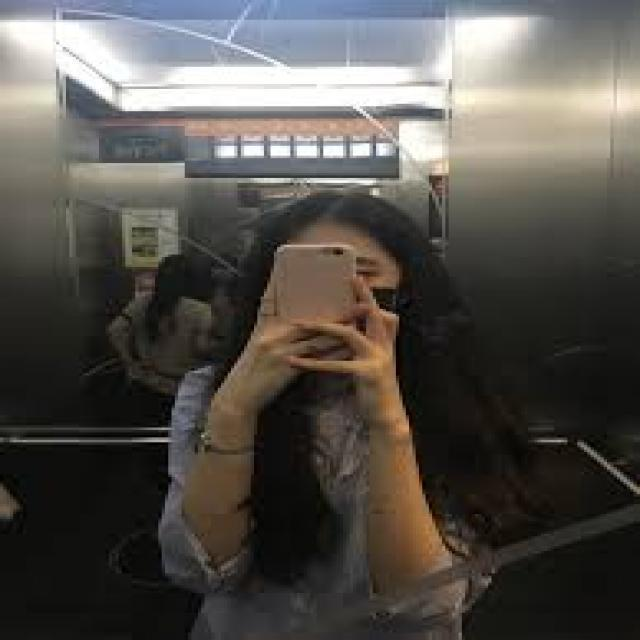Phone: (272, 242, 354, 327)
